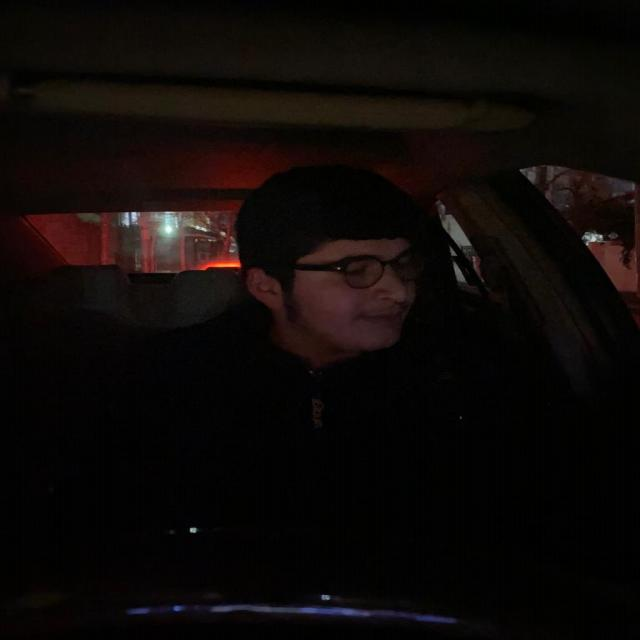drowsy: (232, 157, 434, 365)
